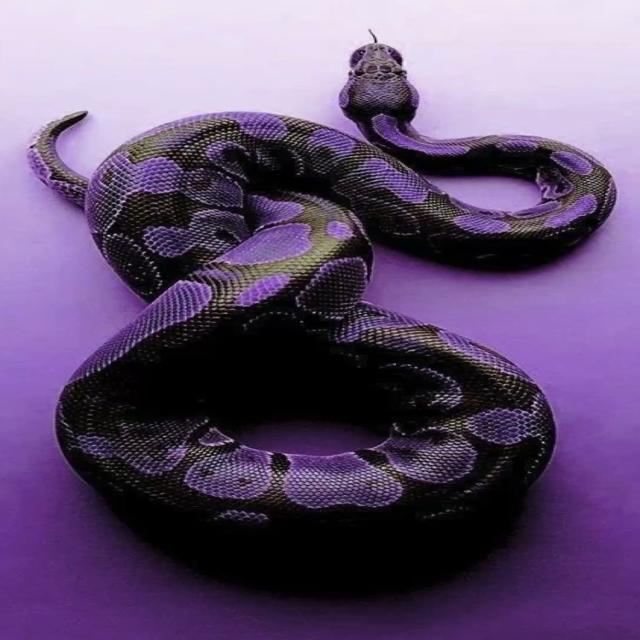Snake: (0, 13, 640, 618)
